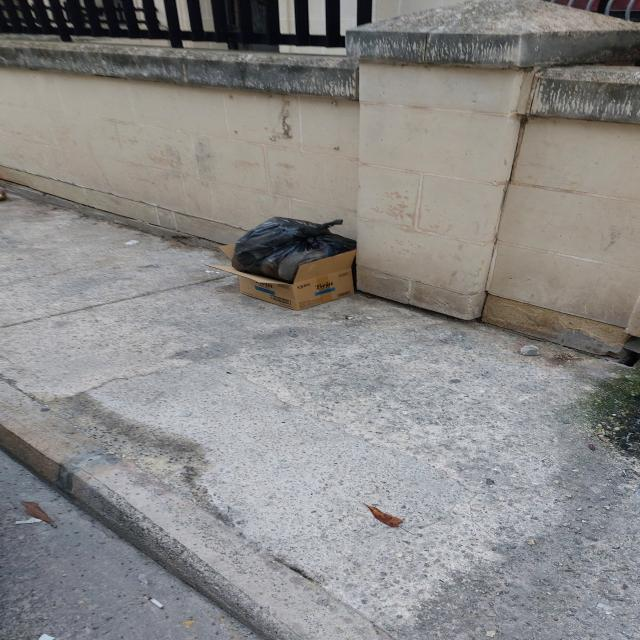Mixed Waste -Black Bag-: (223, 214, 360, 286)
